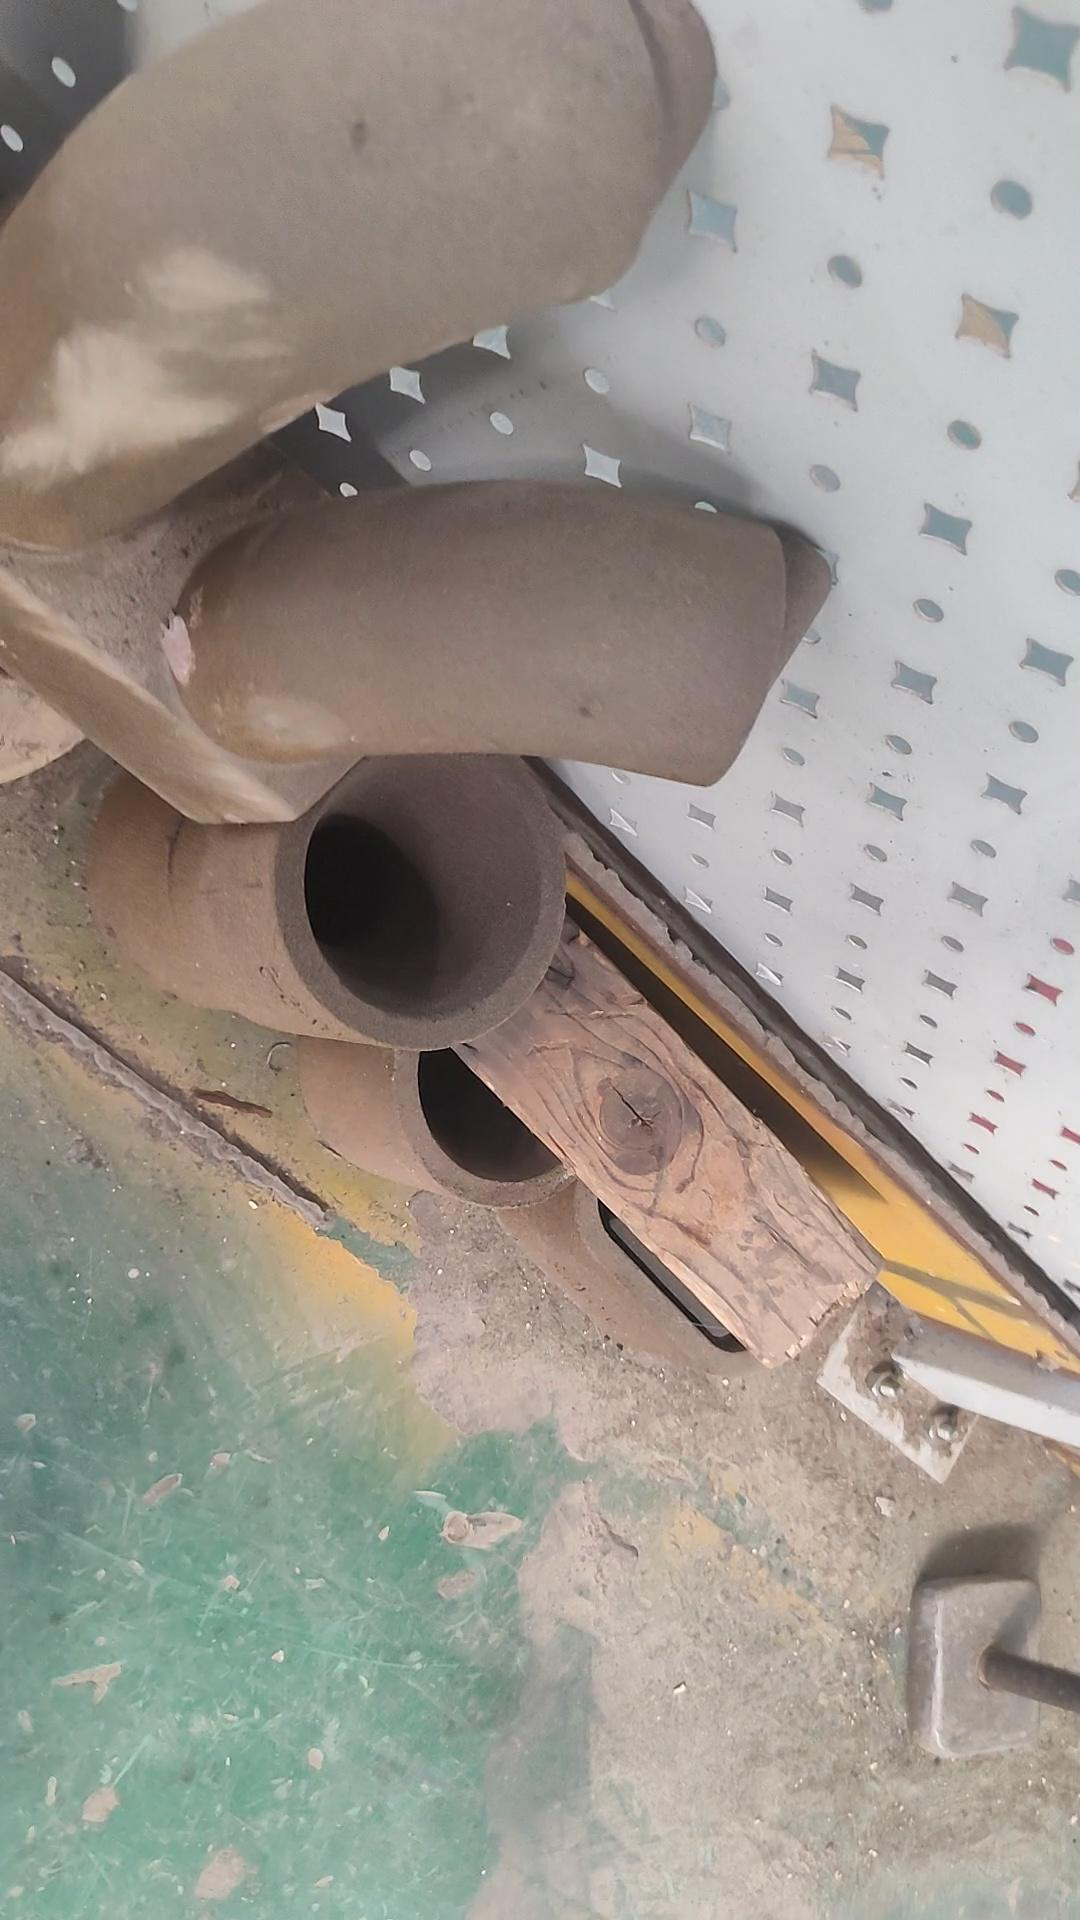pouring hole: (305, 752, 545, 1019), (418, 1011, 585, 1178)
